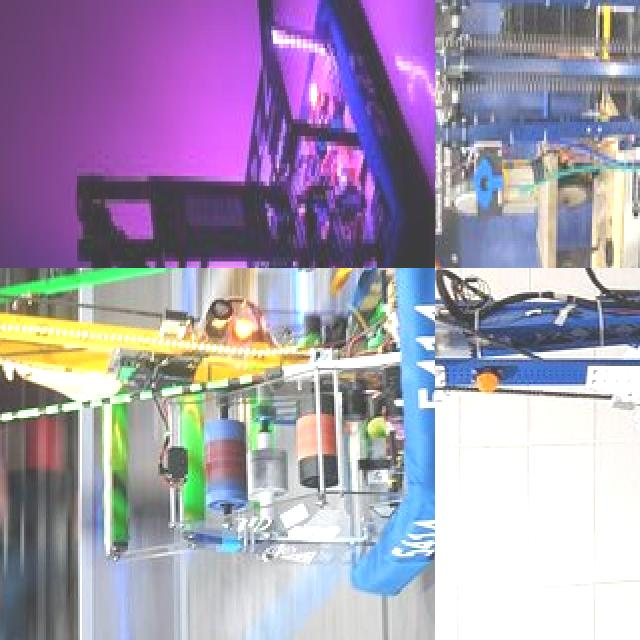FRC-Robots: (0, 268, 435, 609), (16, 0, 435, 268), (435, 268, 640, 540), (435, 0, 640, 268)
